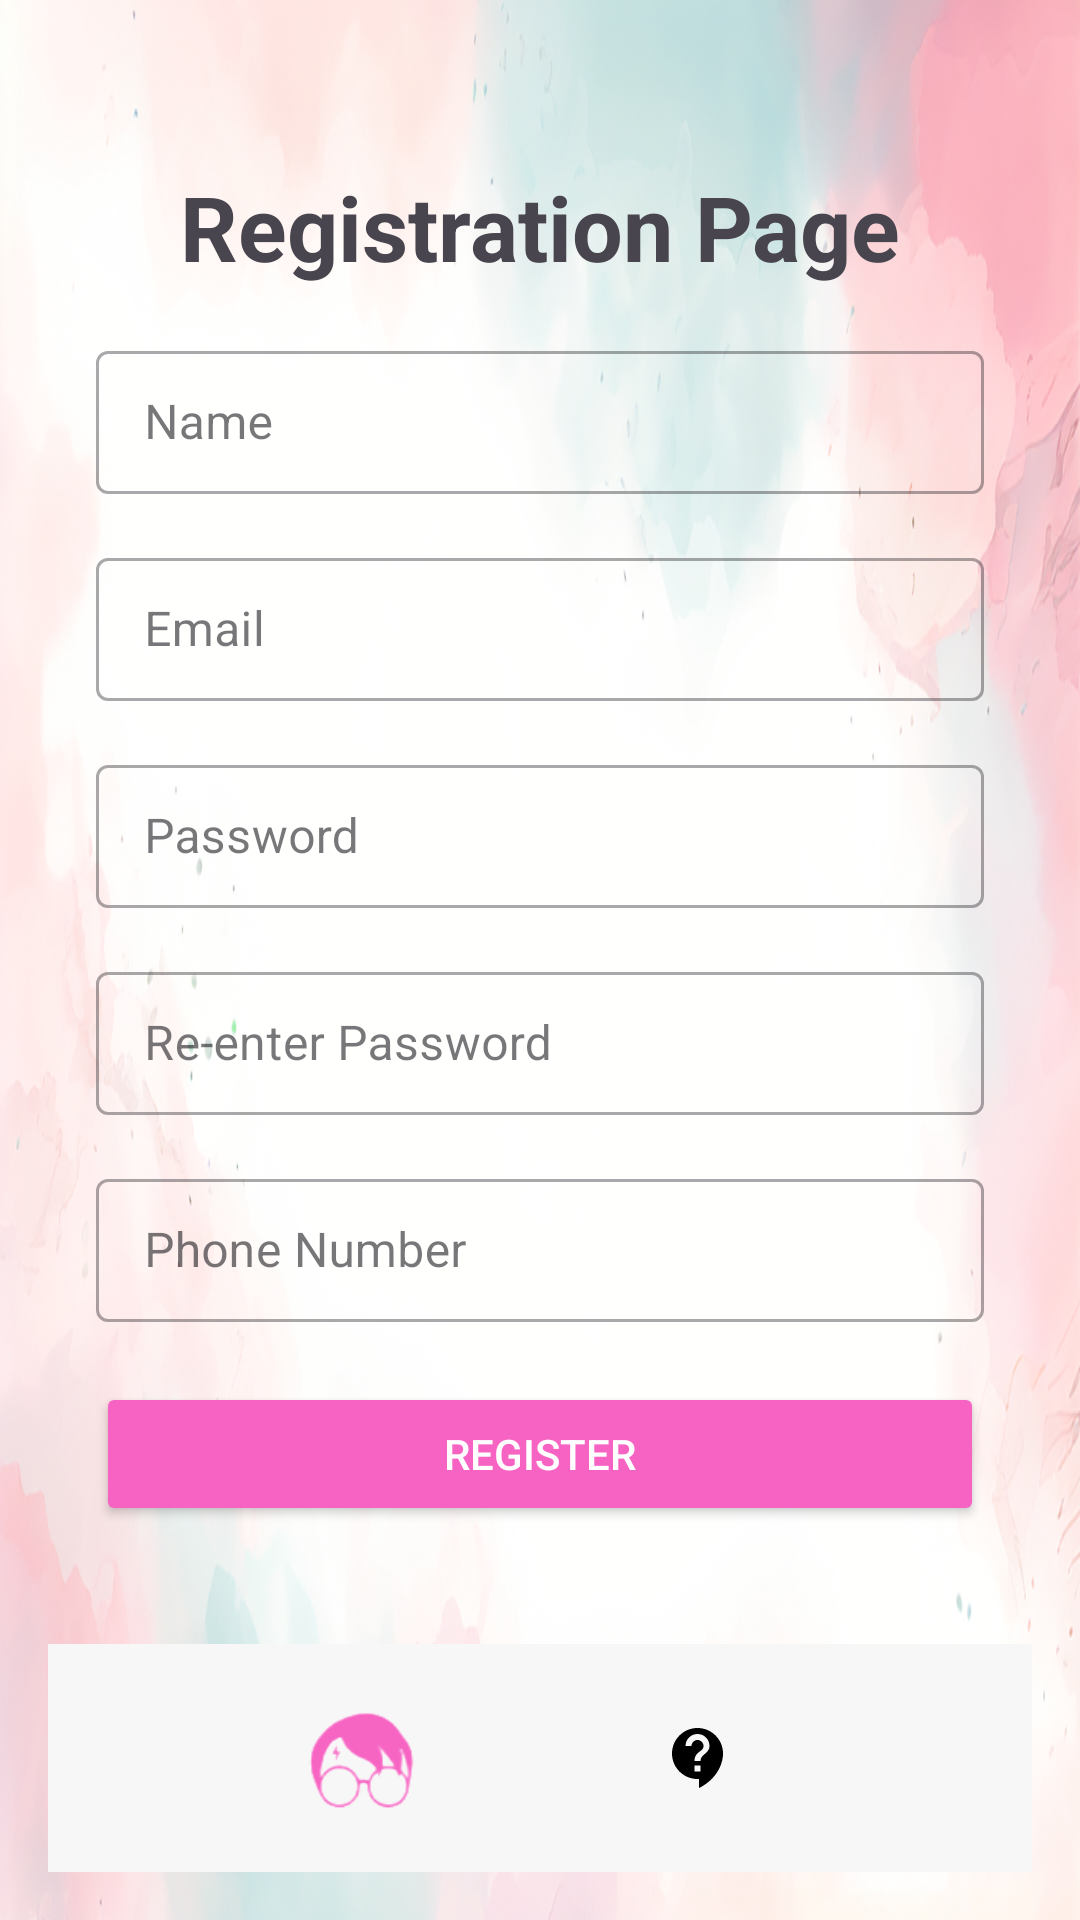

Named icons in this screenshot (1080x1920) and their bounding boxes, (x1,y1,x2,y2):
Customer Support: (672,1728,723,1788)
